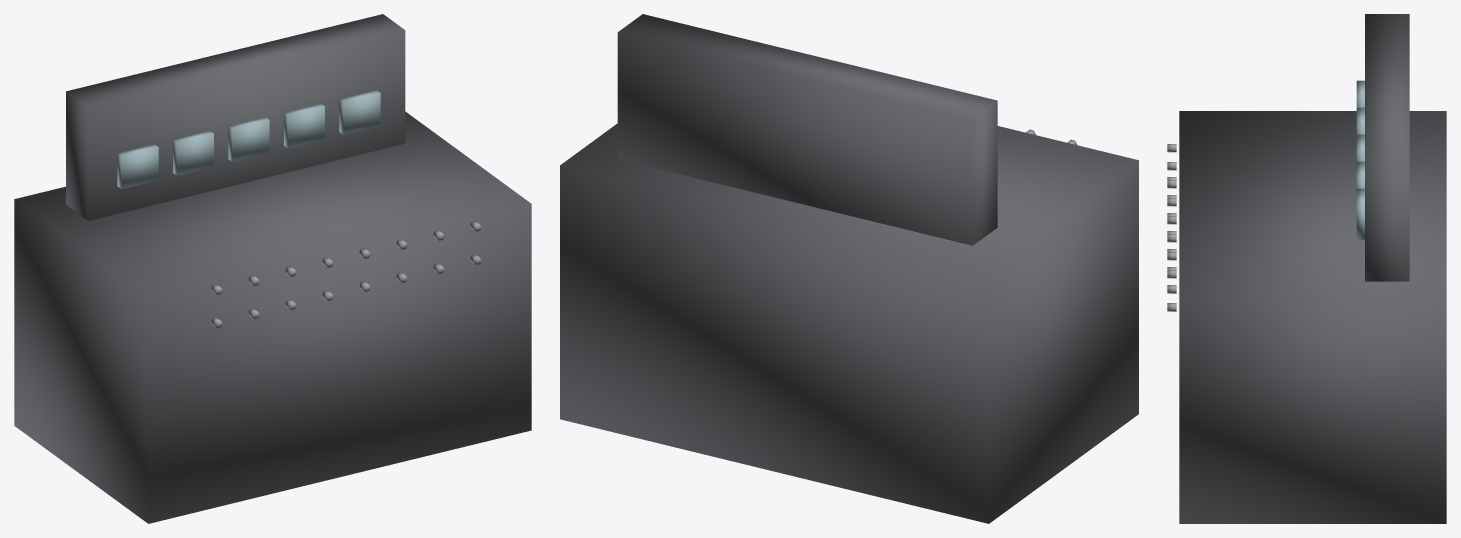
Rendered from dispatch_console__deep.glb.
The picture shows the model from 3 angles, left to right: view 1: azimuth 30°, elevation 25°; view 2: azimuth 150°, elevation 25°; view 3: azimuth 270°, elevation 25°; orthographic projection. The views are drawn at different scales.
Visible parts, largest first — view 1: world; view 2: world; view 3: world.
Part boxes in pixels (x1=…): world: x1=14, y1=14, x2=531, y2=523; world: x1=560, y1=14, x2=1138, y2=523; world: x1=1167, y1=14, x2=1446, y2=523.
Size of the model in its own units: 1.45 by 1.23 by 0.918.
